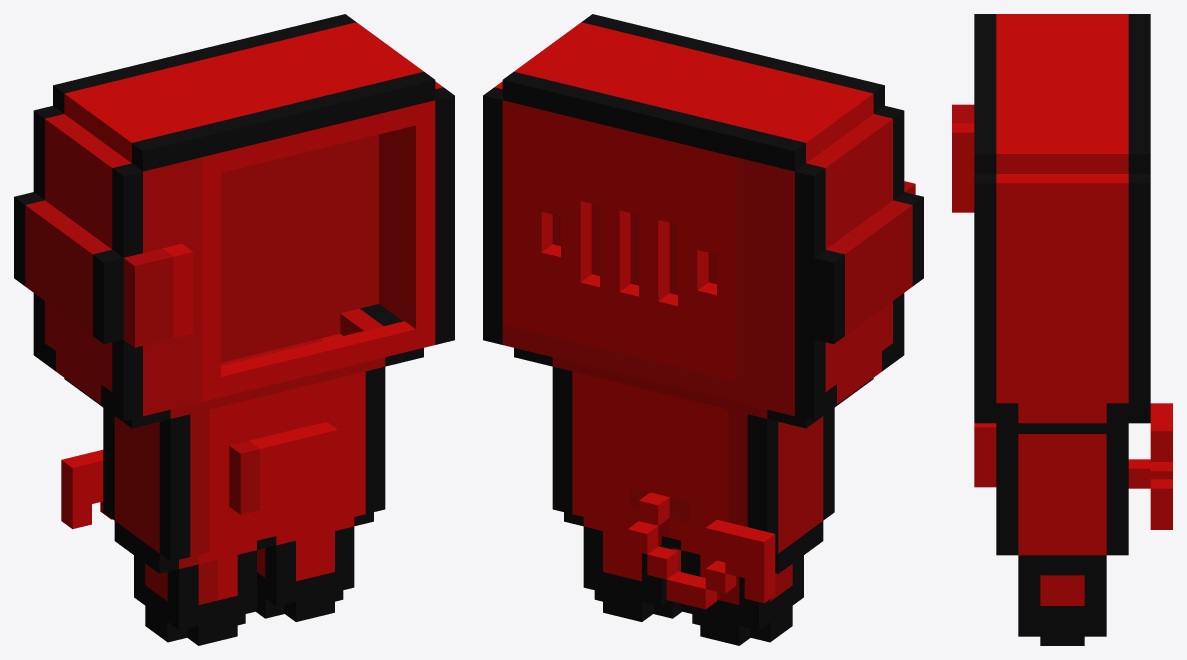
File: body_devil.glb
3 renders of one model, left to right at view 1: azimuth 30°, elevation 25°; view 2: azimuth 150°, elevation 25°; view 3: azimuth 270°, elevation 25°, orthographic.
Parts seen in each view (by area): view 1: model_0; view 2: model_0; view 3: model_0.
Boxes of the visible parts, <box> form: model_0: <box>14,14,454,645</box>; model_0: <box>483,14,923,645</box>; model_0: <box>952,14,1172,645</box>.
Size of the model in its own units: 18 by 26 by 10.
